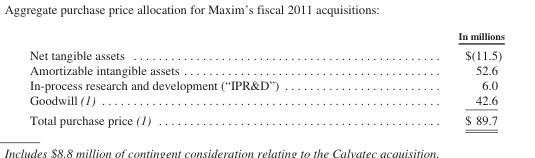table: (28, 29, 503, 127)
table column: (28, 29, 367, 127), (367, 29, 503, 127)
table column header: (28, 29, 503, 44)
table row: (28, 44, 503, 62), (28, 109, 503, 127), (28, 92, 503, 109), (28, 29, 503, 44), (28, 62, 503, 77), (28, 77, 503, 92)
